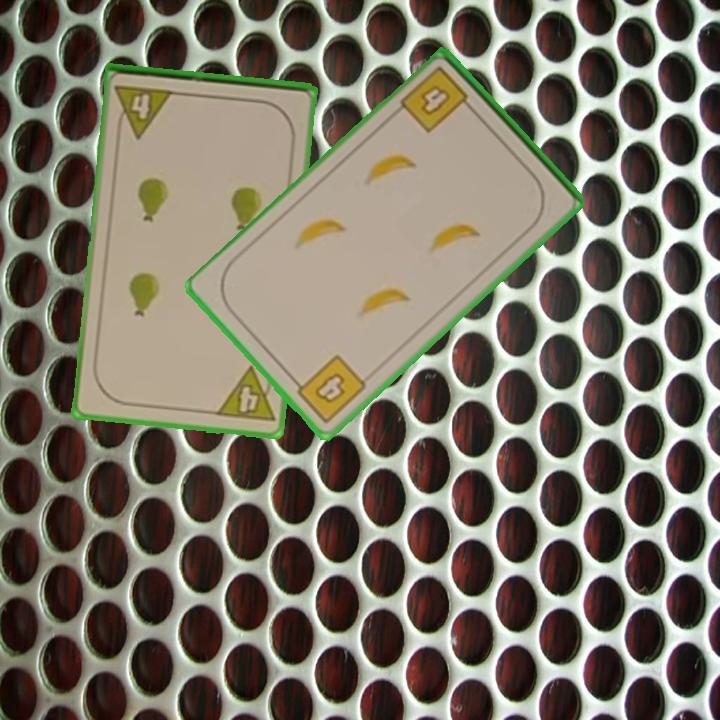4b: (288, 351, 370, 427), (396, 63, 478, 137)
4p: (212, 363, 278, 426), (111, 81, 177, 141)
